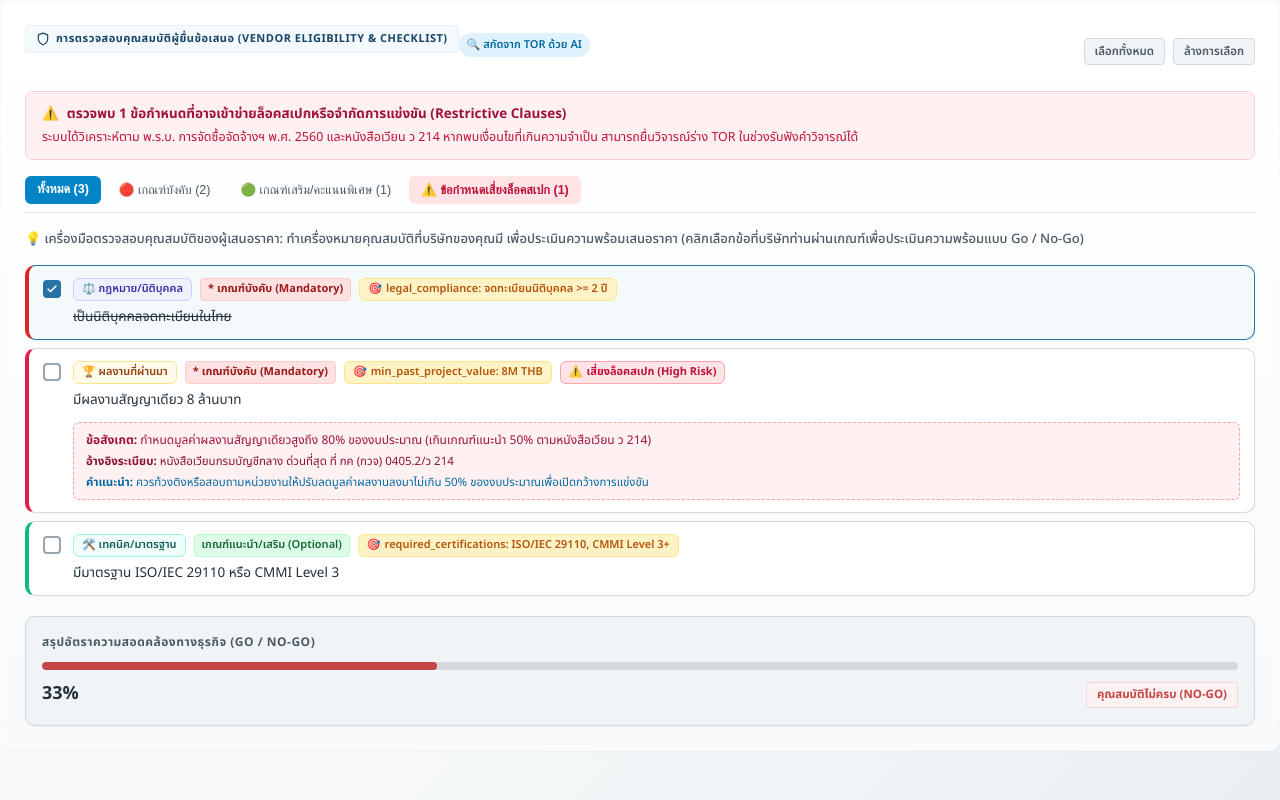
Test: EligibilityChecklist component › filters items when filter tabs are clicked
This screenshot has width=1280, height=800.
// Click on Optional tab
What coordinates should you click on to do the following:
click the button "🟢 เกณฑ์เสริม/คะแนนพิเศษ (1)"
I would click on:
 (316, 190)
Its box is top-left (228, 176), bottom-right (403, 204).
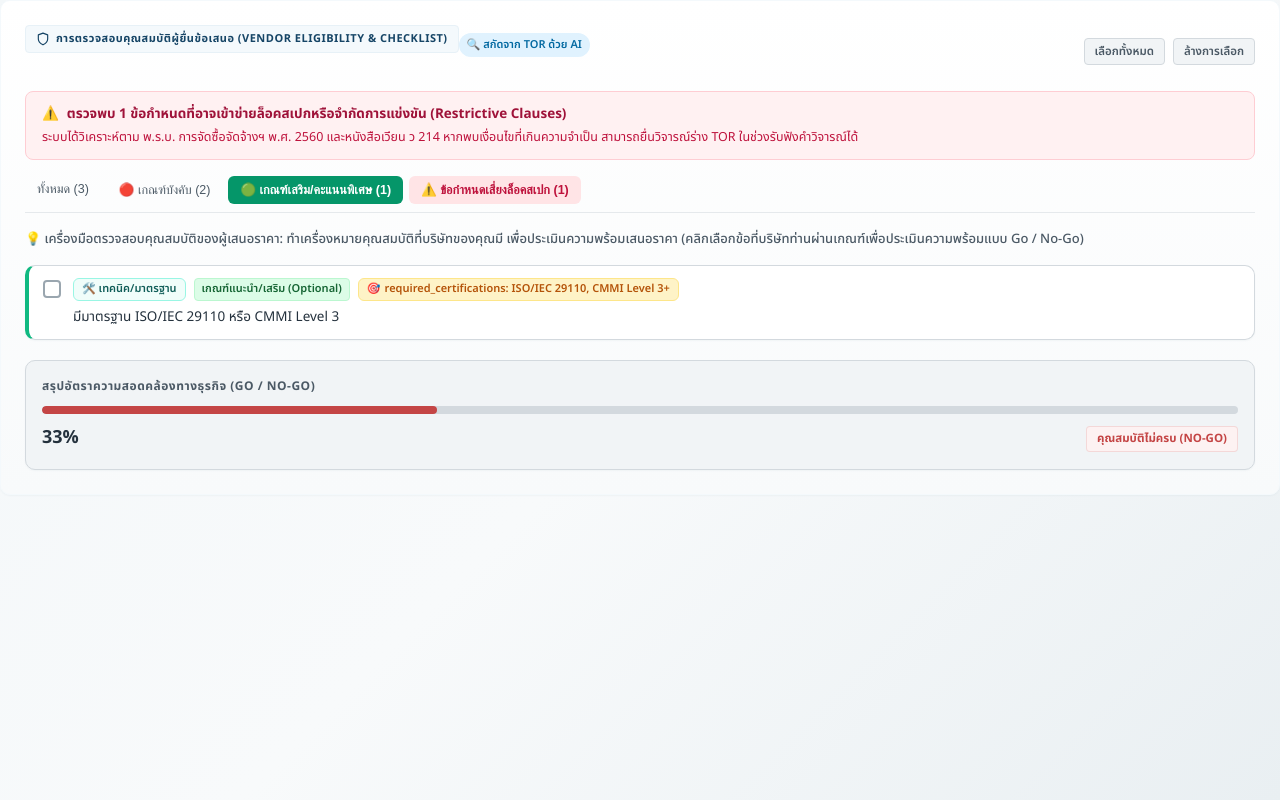
Check: the text "มีมาตรฐาน ISO/IEC 29110 หรือ CMMI Level 3" is shown, box top-left (73, 307), bottom-right (339, 327)
Check: the checkbox "เป็นนิติบุคคลจดทะเบียนในไทย" is gone
